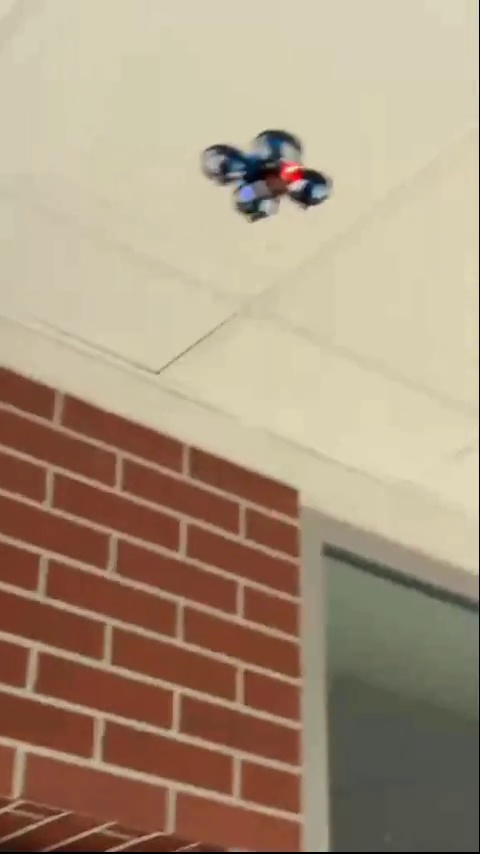drone: (198, 129, 331, 225)
